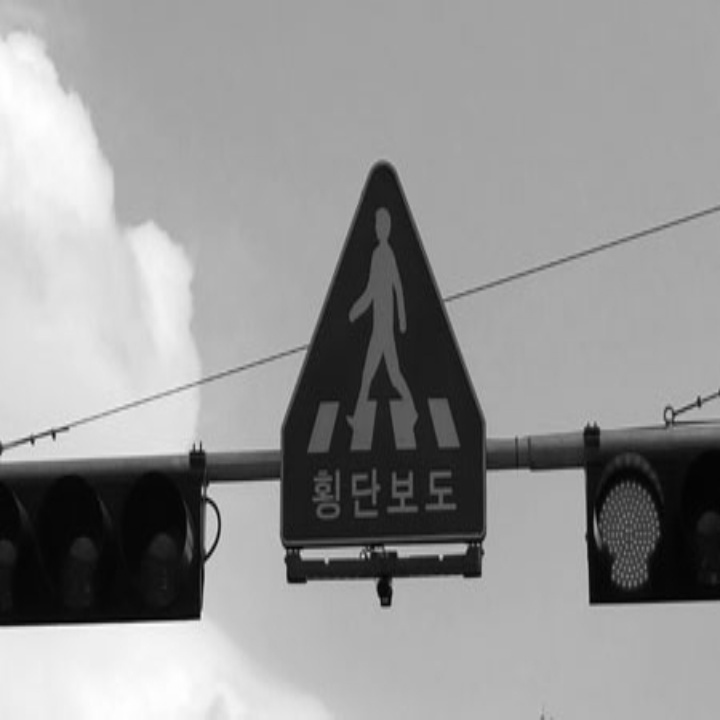cross: (271, 188, 472, 462)
